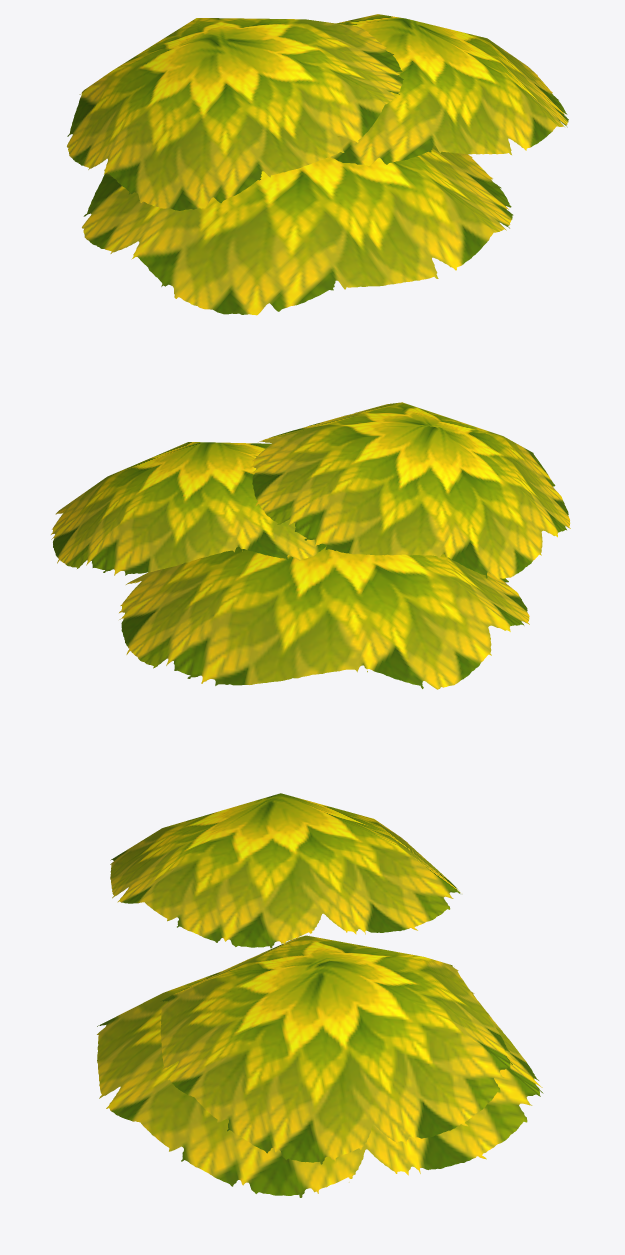
File: Bush_08a.FBX
3 views of the same model, one above another, from view 1: azimuth 30°, elevation 25°; view 2: azimuth 150°, elevation 25°; view 3: azimuth 270°, elevation 25° (orthographic). The views are drawn at different scales.
Visible parts, largest first — view 1: Bush_08a; view 2: Bush_08a; view 3: Bush_08a.
Boxes of the visible parts, x1,y1,x2,y2 form: Bush_08a: (67, 14, 568, 315); Bush_08a: (51, 402, 570, 689); Bush_08a: (97, 793, 543, 1197).
Size of the model in its own units: 1.29 by 0.5466 by 1.09.
